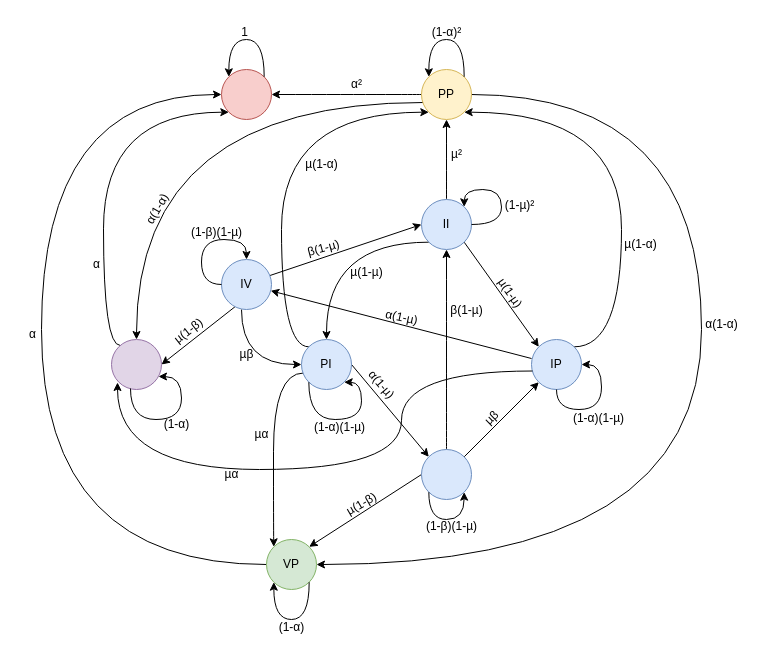
Image size: 768x659. Some labels were removed from this diagram. Each missing label, with the box of its shape:
PV: (110, 338, 162, 390)
VI: (420, 448, 472, 500)
VV: (220, 68, 272, 120)
